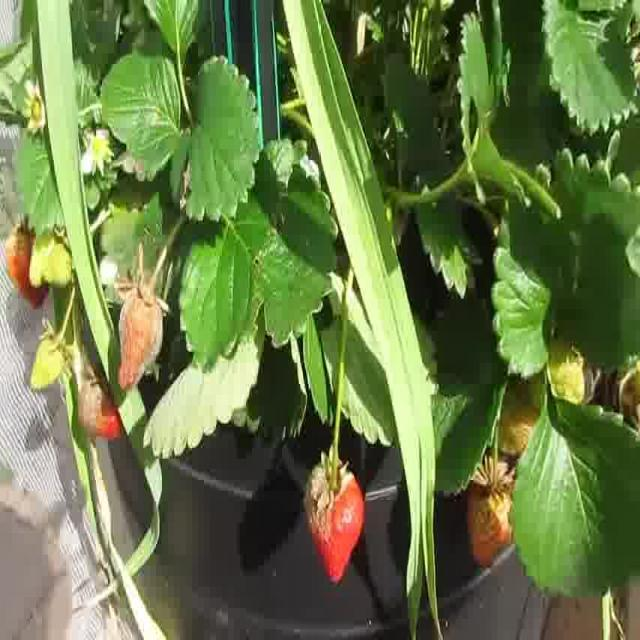Moho gris: (304, 444, 362, 588), (118, 282, 164, 394), (77, 364, 123, 454)
